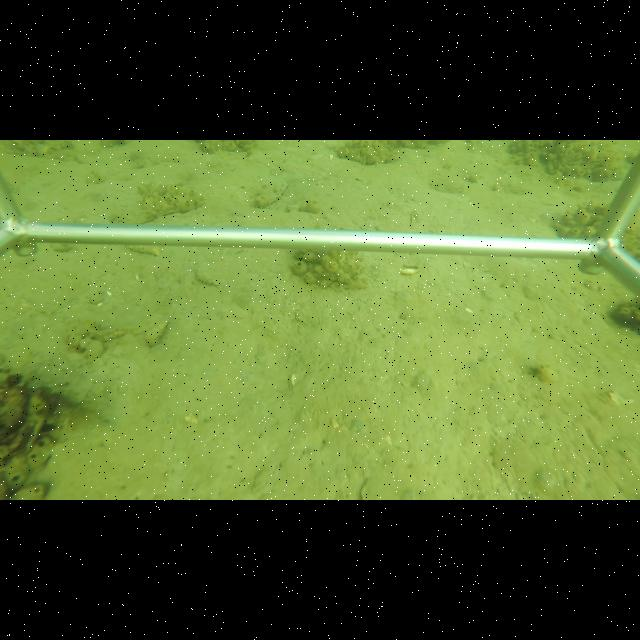Oyster-Closed: (108, 187, 209, 225), (189, 256, 227, 288), (252, 180, 292, 209)
